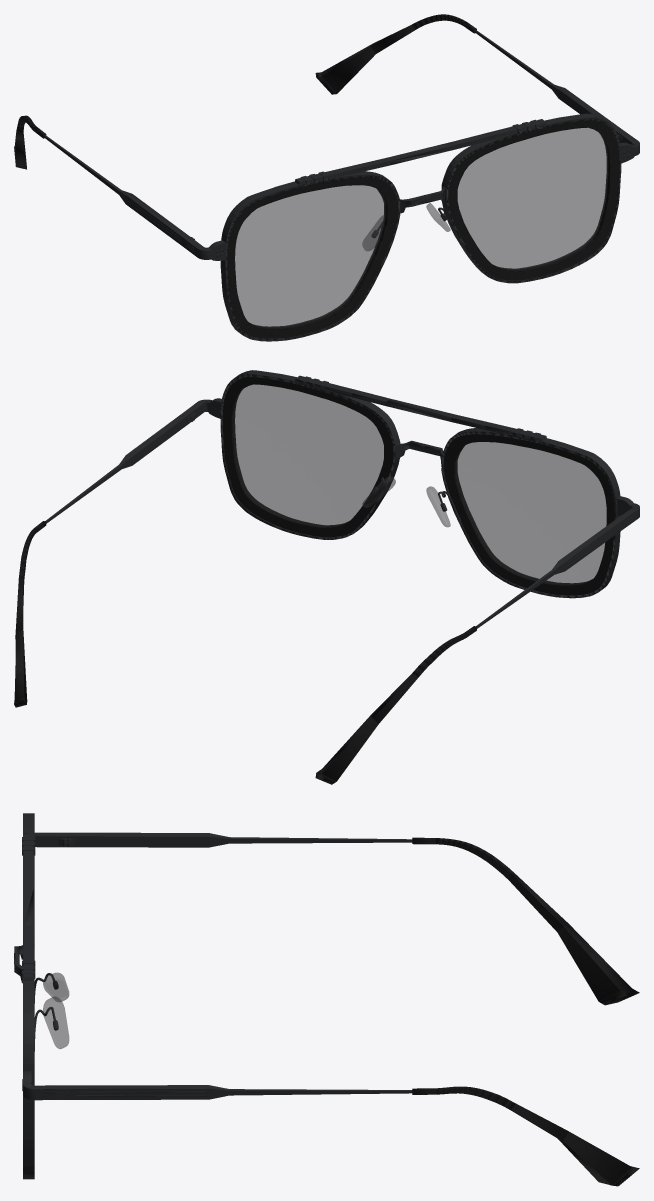
The model's file is aviator-pro-klasik-siyah.glb.
3 views of the same model, one above another, from view 1: azimuth 30°, elevation 25°; view 2: azimuth 150°, elevation 25°; view 3: azimuth 270°, elevation 25° (orthographic). The views are drawn at different scales.
Parts seen in each view (by area): view 1: OPTIK_PRODUCT_200; view 2: OPTIK_PRODUCT_200; view 3: OPTIK_PRODUCT_200.
Part boxes in pixels (bbox=[...]): OPTIK_PRODUCT_200: bbox=[14, 14, 639, 341]; OPTIK_PRODUCT_200: bbox=[14, 370, 639, 784]; OPTIK_PRODUCT_200: bbox=[14, 813, 639, 1186].
Size of the model in its own units: 0.1526 by 0.0523 by 0.1571.
Materials: 5 (1 with a texture image).
